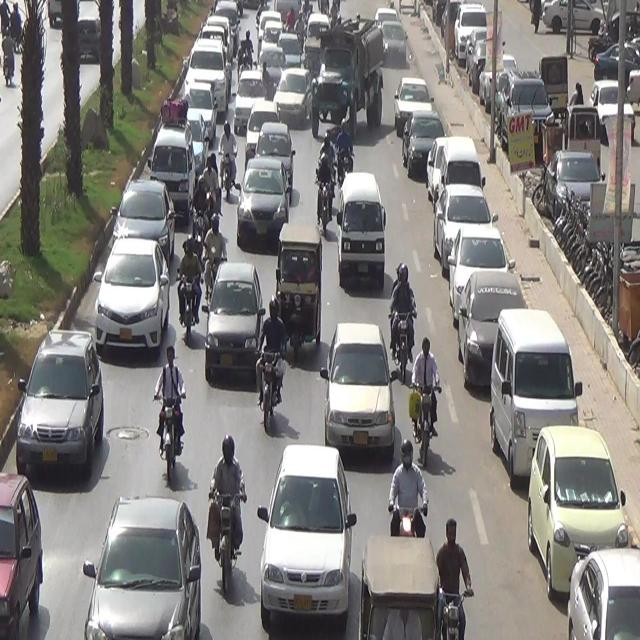car: (69, 504, 209, 640), (264, 432, 354, 640), (8, 319, 109, 475), (322, 326, 396, 470), (89, 245, 170, 364), (206, 262, 262, 385), (338, 172, 390, 300), (105, 191, 177, 277), (145, 123, 198, 219), (239, 161, 288, 257), (252, 125, 298, 201), (191, 38, 233, 102), (273, 71, 312, 137), (228, 61, 268, 125), (199, 7, 244, 61)
motorbike: (431, 511, 485, 640), (209, 441, 249, 592), (257, 291, 294, 439), (149, 347, 195, 465), (383, 432, 428, 544), (385, 262, 420, 371), (409, 336, 441, 451), (197, 200, 232, 290), (208, 118, 242, 203), (176, 231, 202, 338), (308, 153, 340, 234), (195, 154, 225, 222), (335, 108, 356, 178)
truck: (308, 24, 395, 140)
